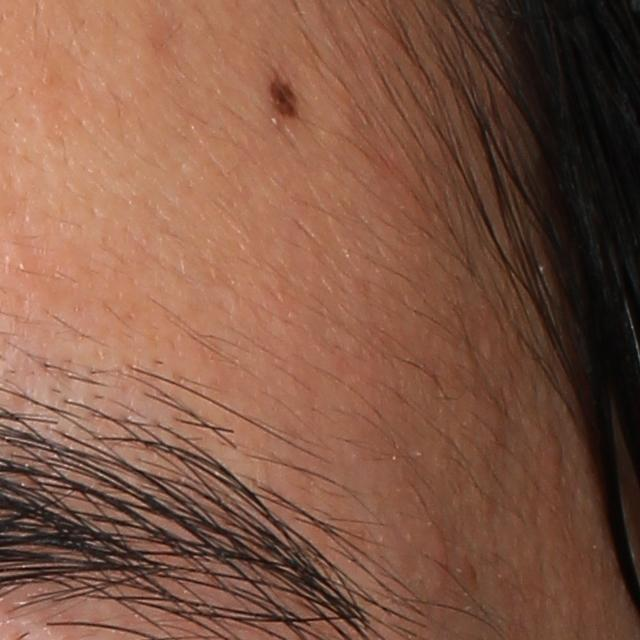nevus: (266, 70, 307, 118)
papule: (541, 436, 567, 469)
